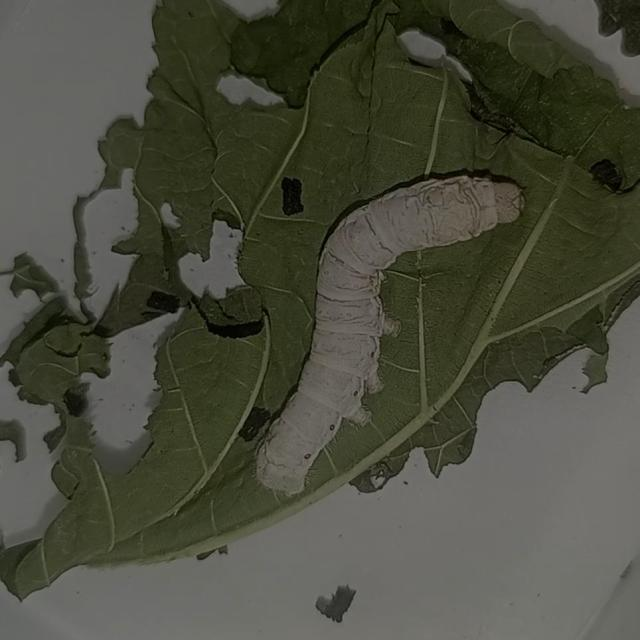Healthy: (231, 149, 546, 512)
